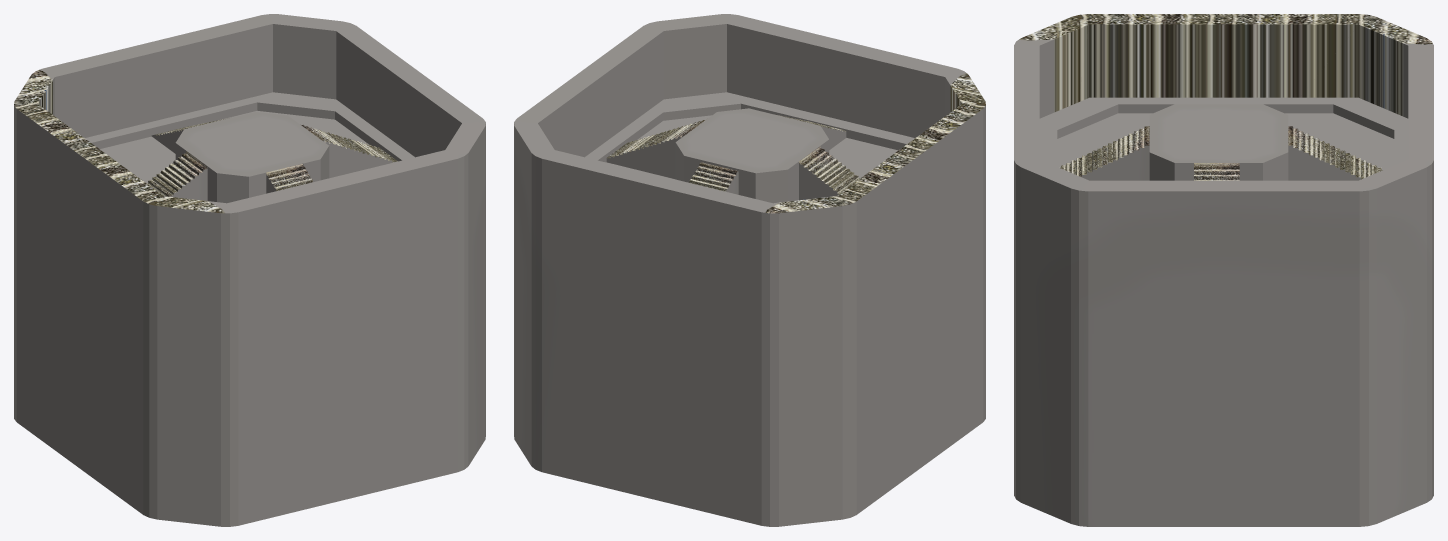
File: boss-arena.glb
3 renders of one model, left to right at view 1: azimuth 30°, elevation 25°; view 2: azimuth 150°, elevation 25°; view 3: azimuth 270°, elevation 25°, orthographic. The views are drawn at different scales.
Visible parts, largest first — view 1: Cube.001, Cube; view 2: Cube.001, Cube; view 3: Cube.001, Cube.
Boxes of the visible parts, x1,y1,x2,y2 form: Cube.001: (14,14,485,526); Cube: (85,92,414,203); Cube.001: (514,14,985,526); Cube: (585,92,914,203); Cube.001: (1014,14,1433,526); Cube: (1039,97,1408,180).
Bounding box in the file's own units: 16.2 × 14.29 × 16.2.
1 material, 1 textured.
